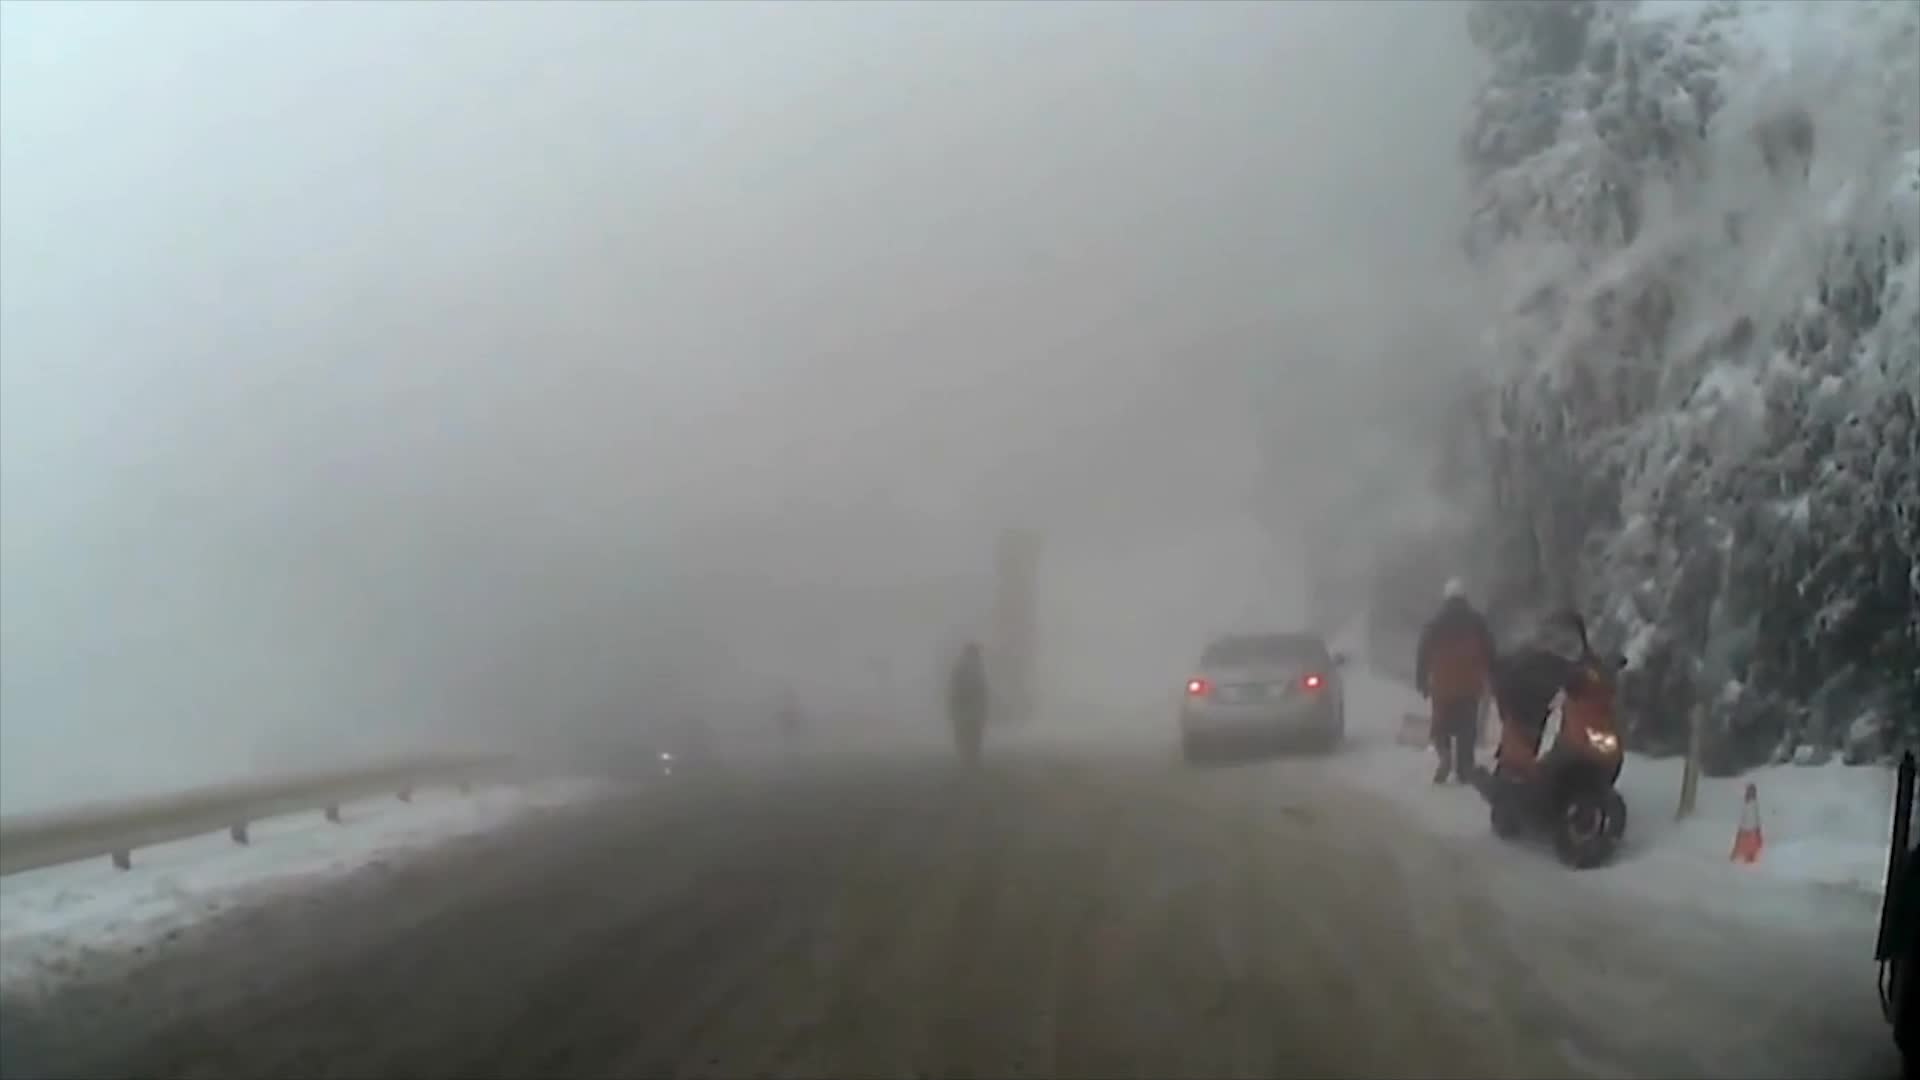pedestrian: (1410, 569, 1508, 792), (948, 638, 993, 779)
vehicle: (1178, 625, 1350, 761), (1868, 747, 1919, 1079)
